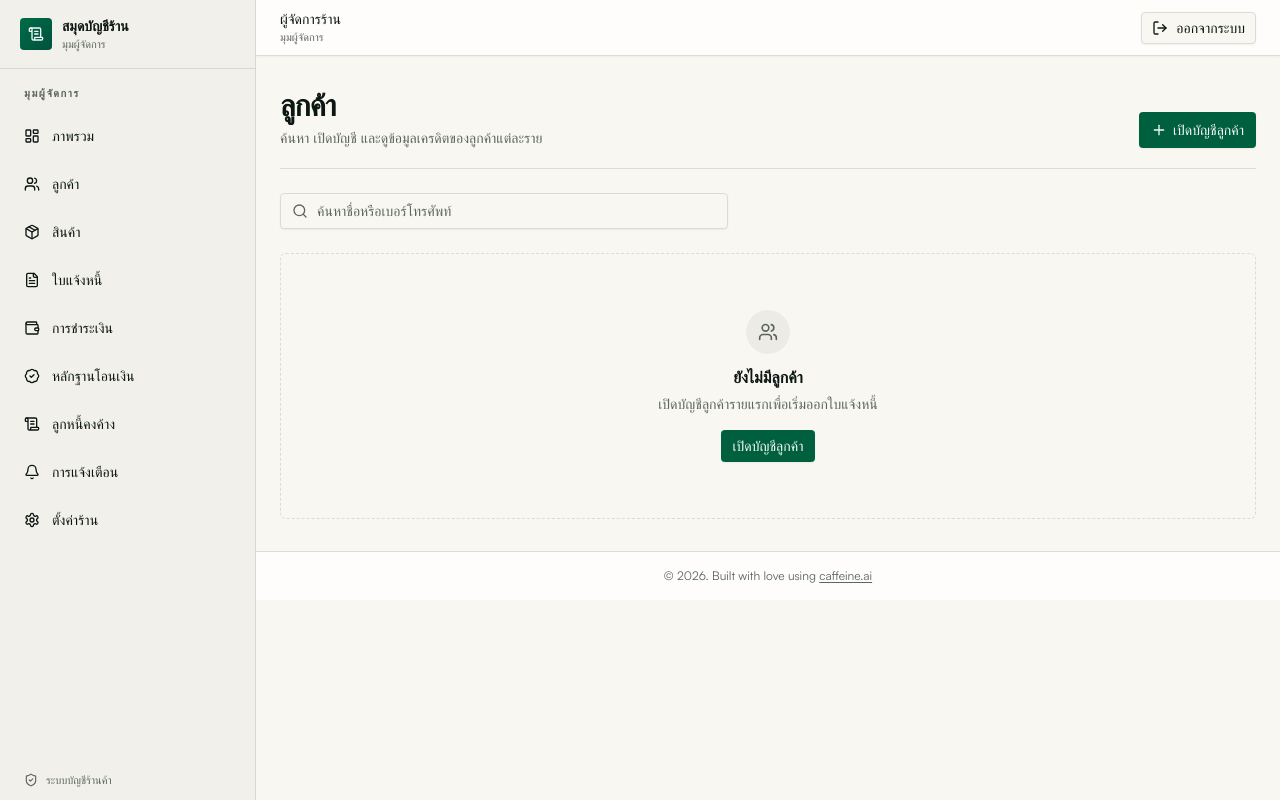
Test: CustomersPage › rejects a non-numeric credit limit before submitting
This screenshot has width=1280, height=800.
Click the 1st button "เปิดบัญชีลูกค้า" at x=1198, y=130, box [1139,112,1256,148]
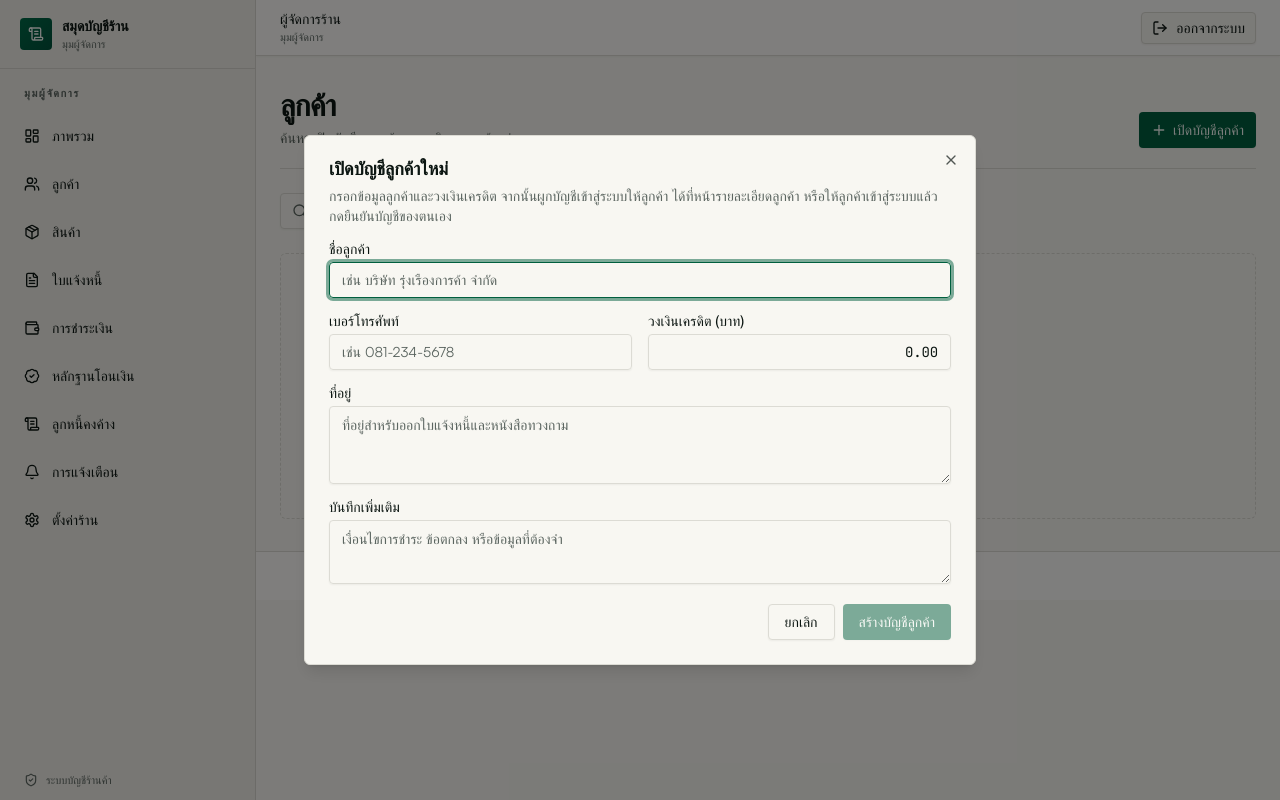
Type "ลูกค้าทดสอบ" into the field labelled "ชื่อลูกค้า" at x=640, y=280, box [329,262,951,298]
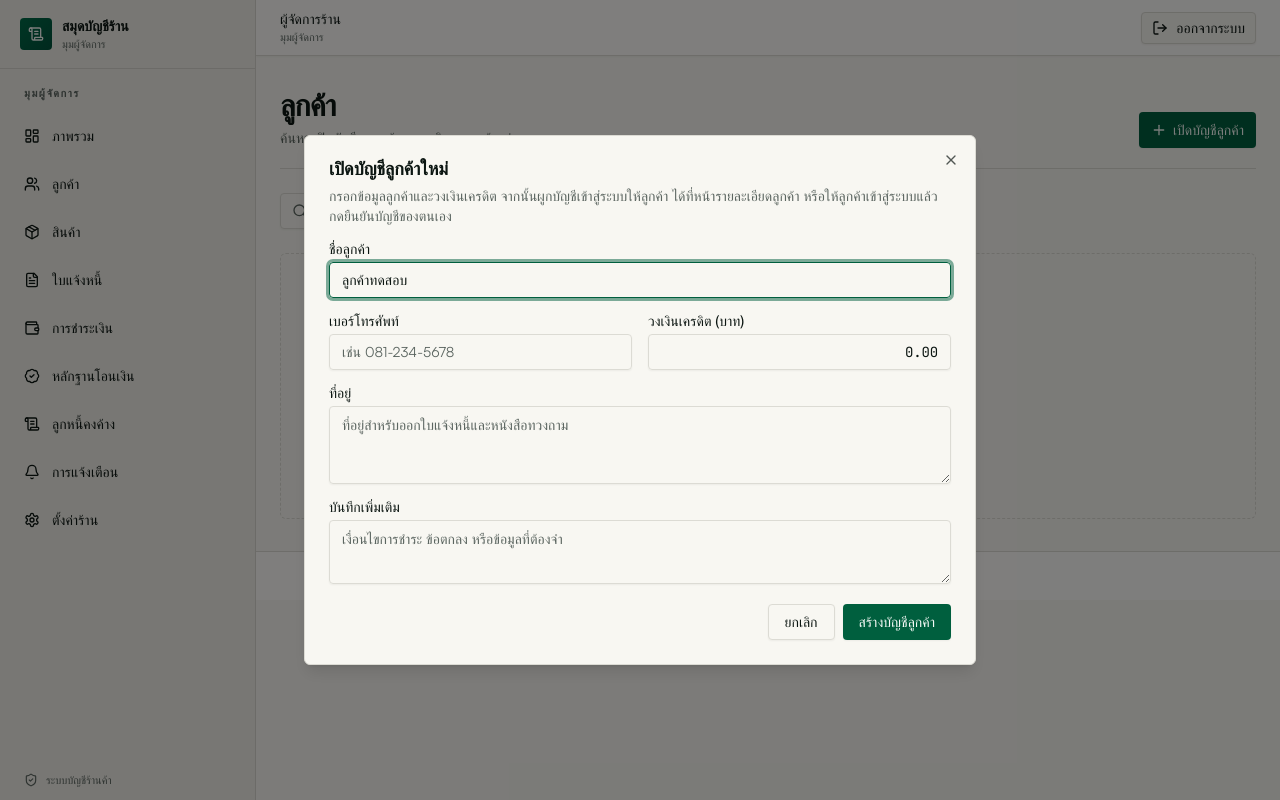
Type "abc" into the field labelled "วงเงินเครดิต (บาท)" at x=800, y=352, box [648,334,951,370]
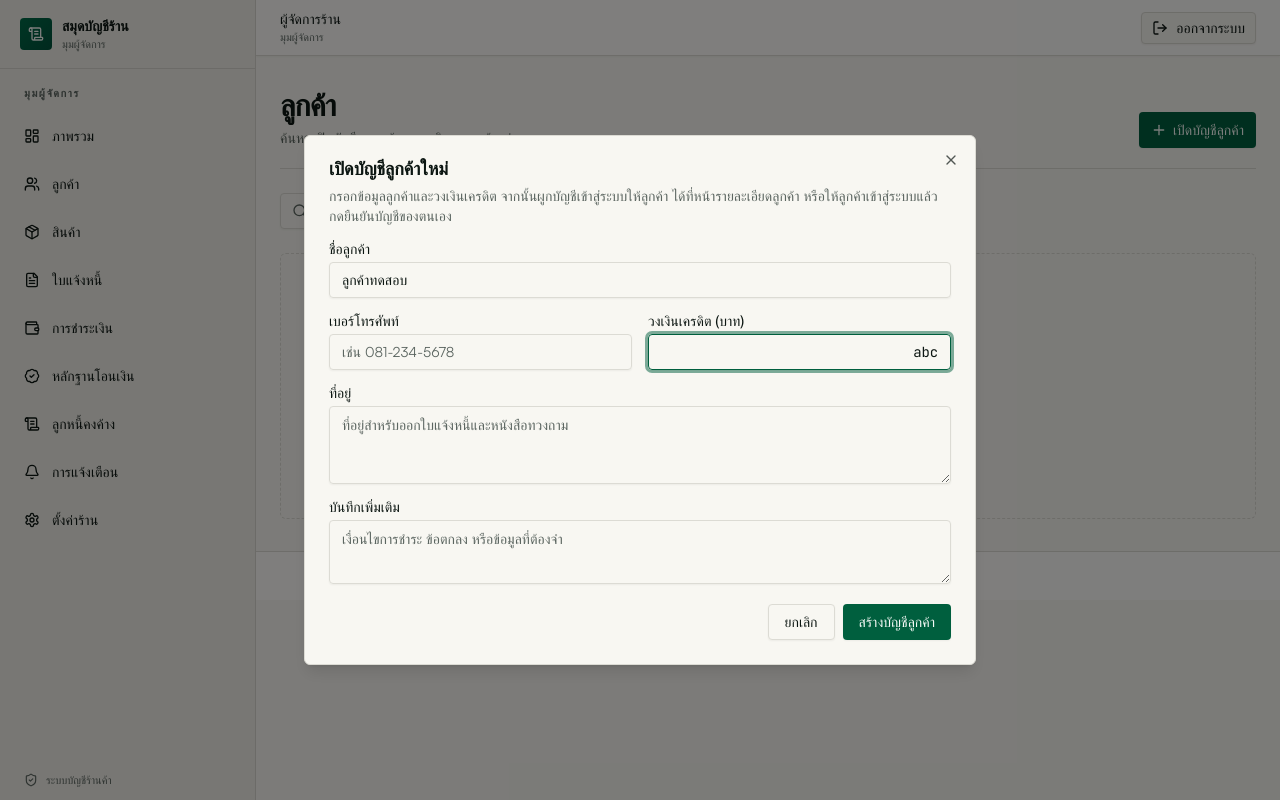
Click the button "สร้างบัญชีลูกค้า" at x=897, y=622, box [843,604,951,640]
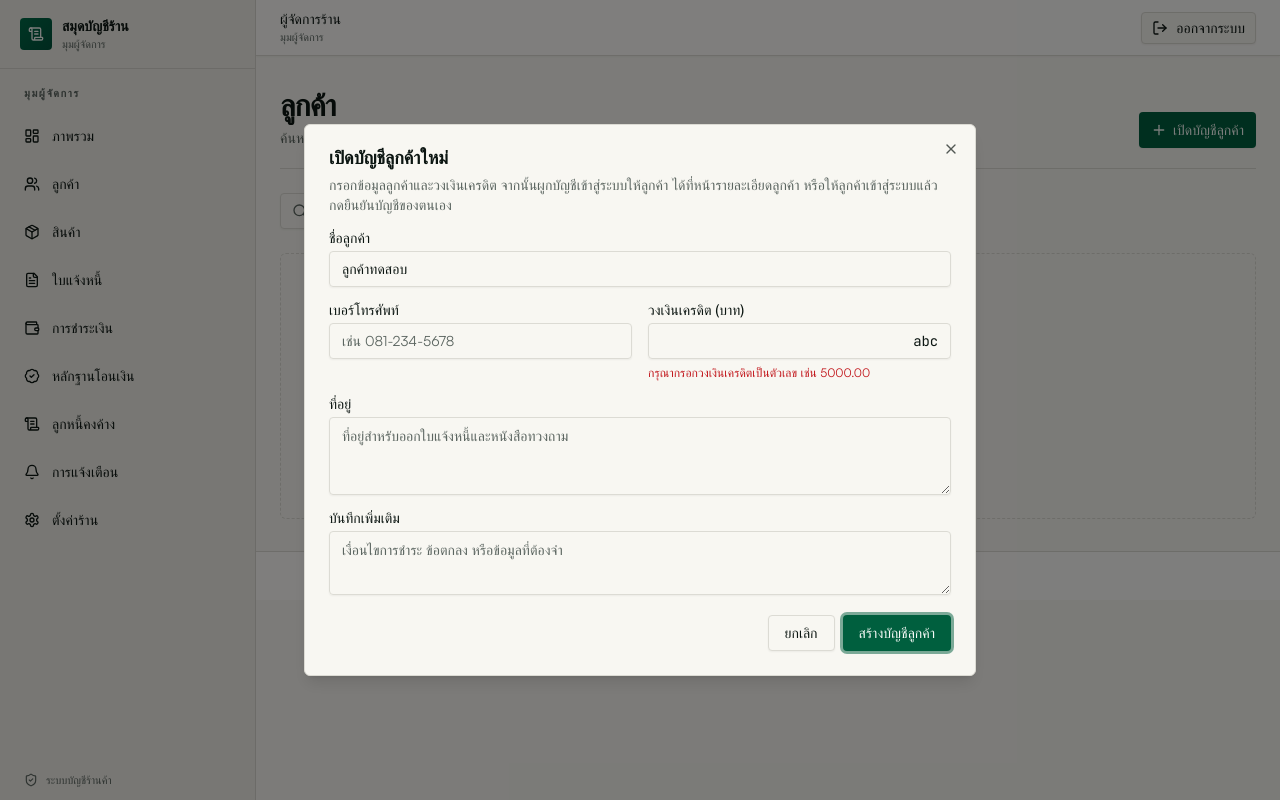
Check: the text "กรุณากรอกวงเงินเครดิตเป็นตัวเลข เช่น 5000.00" is shown, box [648,365,870,380]
